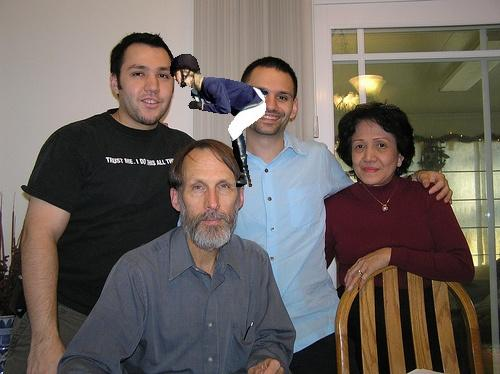tampered: (171, 55, 268, 187)
